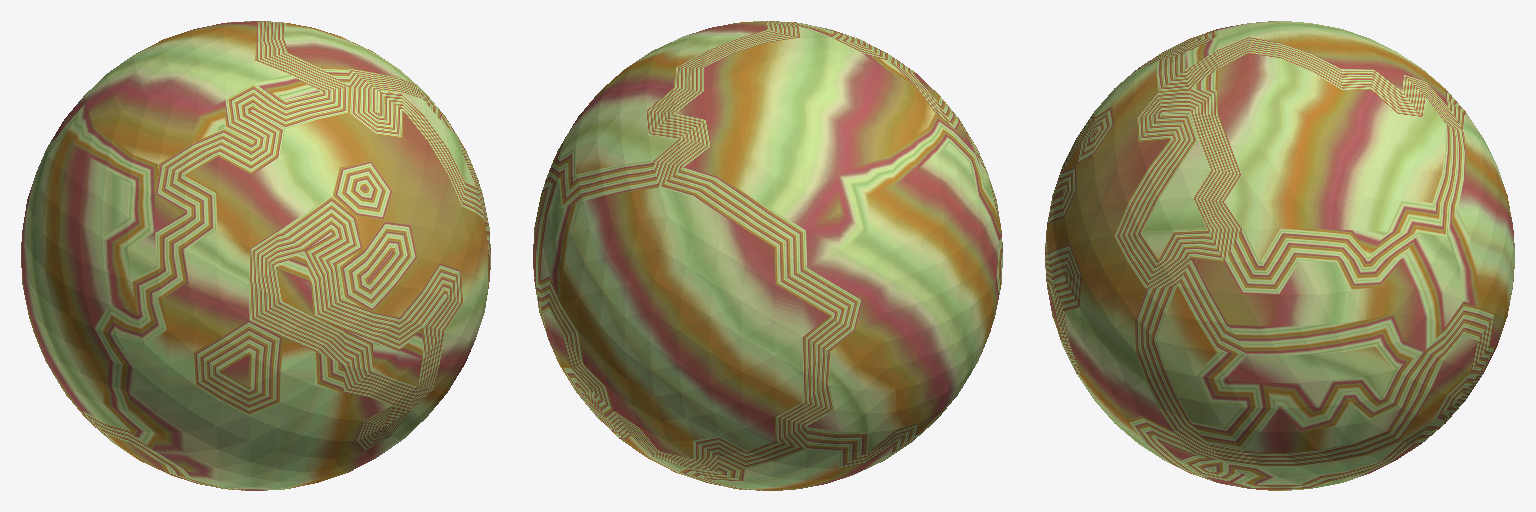
The picture shows the model from 3 angles: view 1: azimuth 30°, elevation 25°; view 2: azimuth 150°, elevation 25°; view 3: azimuth 270°, elevation 25°; orthographic projection.
Size of the model in its own units: 0.1269 by 0.1269 by 0.1269.
Materials: 1 (1 with a texture image).